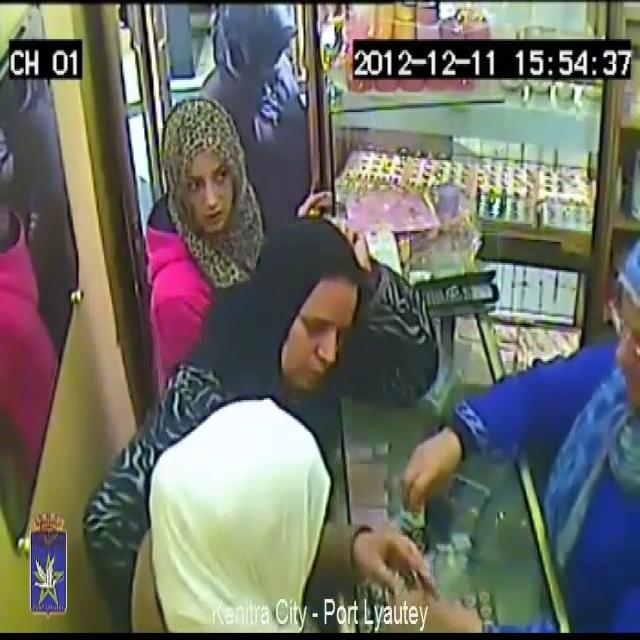Product: (409, 489, 431, 532)
normal: (132, 85, 271, 345), (246, 195, 378, 412), (223, 0, 323, 188)
shoplifting: (397, 229, 640, 640), (121, 372, 401, 640)
